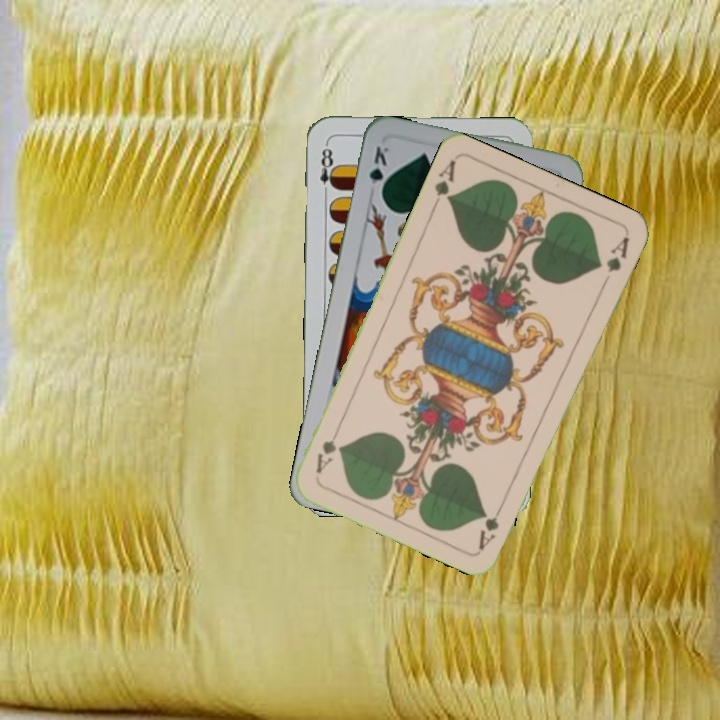E8: (316, 141, 339, 200)
GA: (474, 496, 508, 552), (427, 156, 459, 213)
GK: (365, 142, 394, 200)
